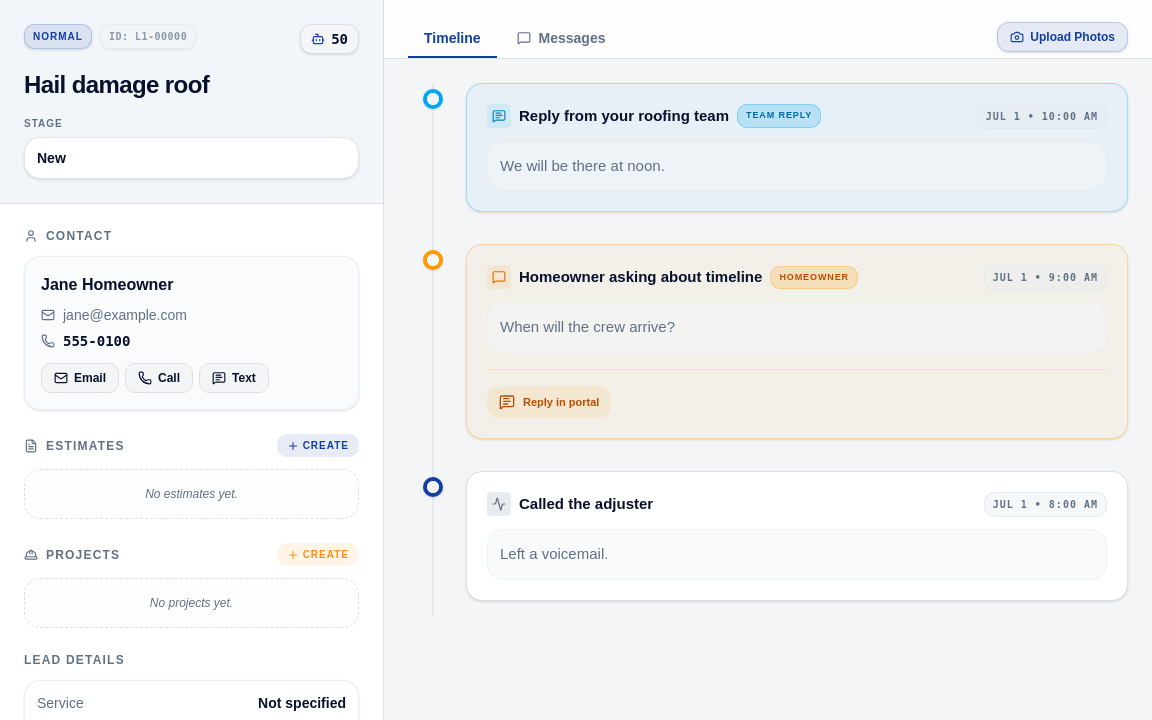
lead detail – Messages tab › labels homeowner and team messages correctly
Click the button "Messages". click: (561, 39)
box: left=500, top=20, right=621, bottom=58
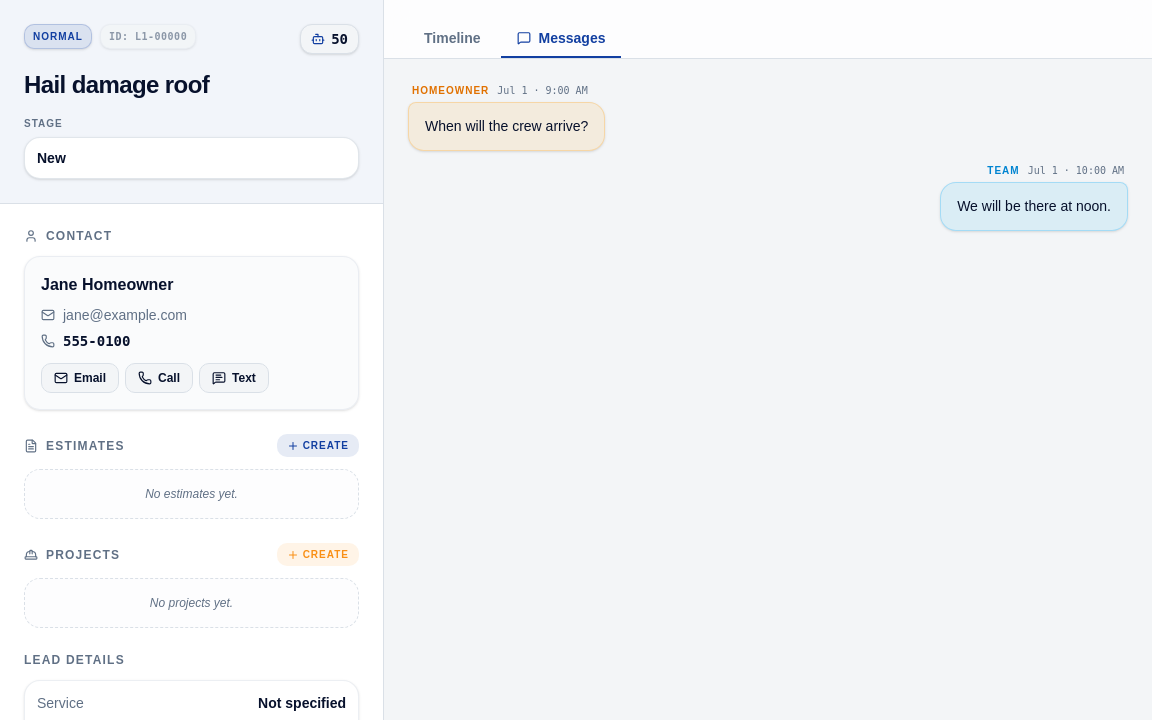
Check: the text "When will the crew arrive?" is shown, box left=408, top=102, right=605, bottom=151
Check: the text "Team" is shown, box left=987, top=165, right=1020, bottom=176
